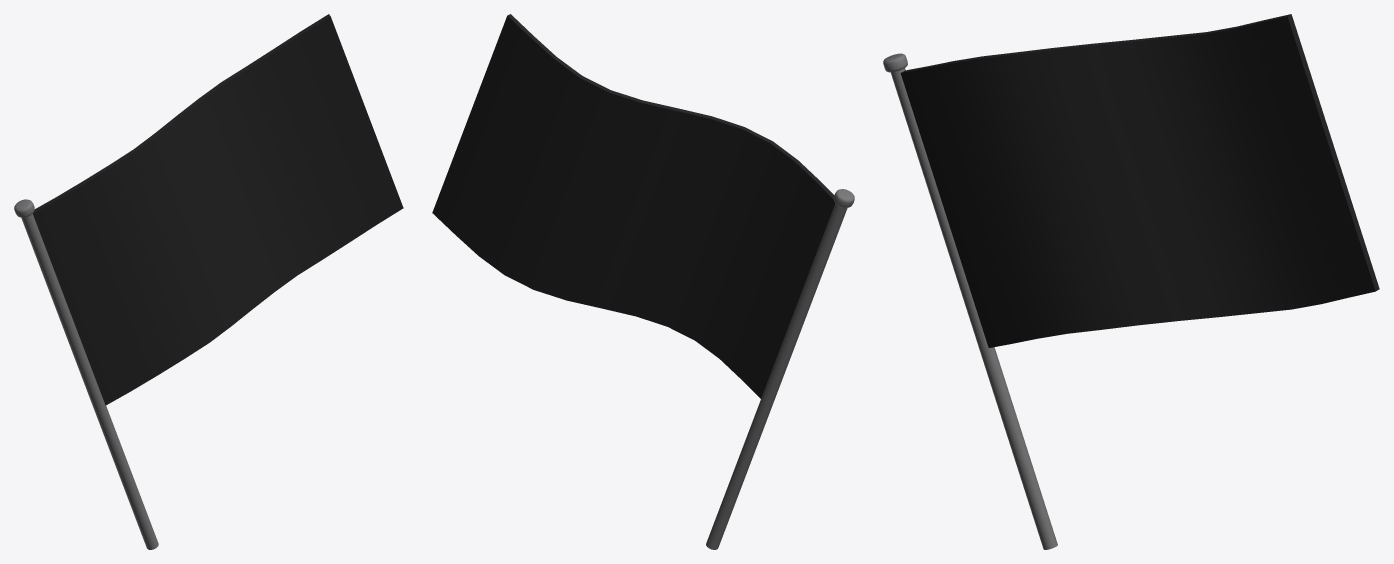
The model's file is black_flag.gltf.
3 renders of one model, left to right at view 1: azimuth 30°, elevation 25°; view 2: azimuth 150°, elevation 25°; view 3: azimuth 330°, elevation 25°, orthographic. The views are drawn at different scales.
Parts seen in each view (by area): view 1: Circle.2661; view 2: Circle.2661; view 3: Circle.2661.
Boxes of the visible parts, x1,y1,x2,y2 form: Circle.2661: (14,14,403,549); Circle.2661: (432,14,854,549); Circle.2661: (883,14,1379,549).
Bounding box in the file's own units: 2.07 × 2.39 × 0.2402.
1 material, 1 textured.
